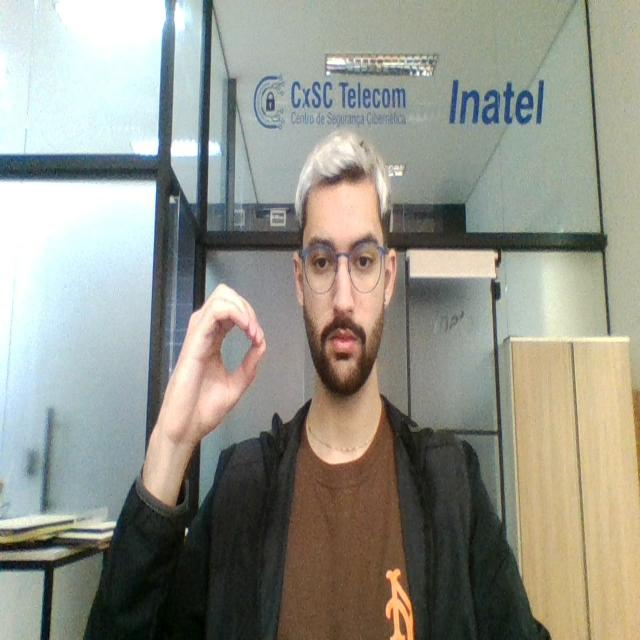O: (173, 279, 267, 445)
